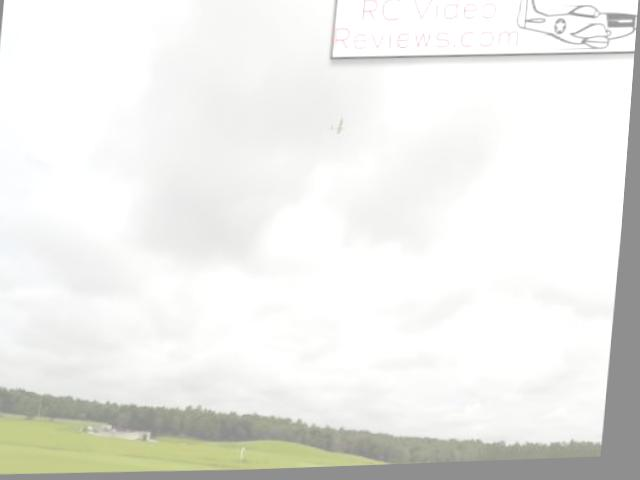uav: (326, 112, 357, 145)
